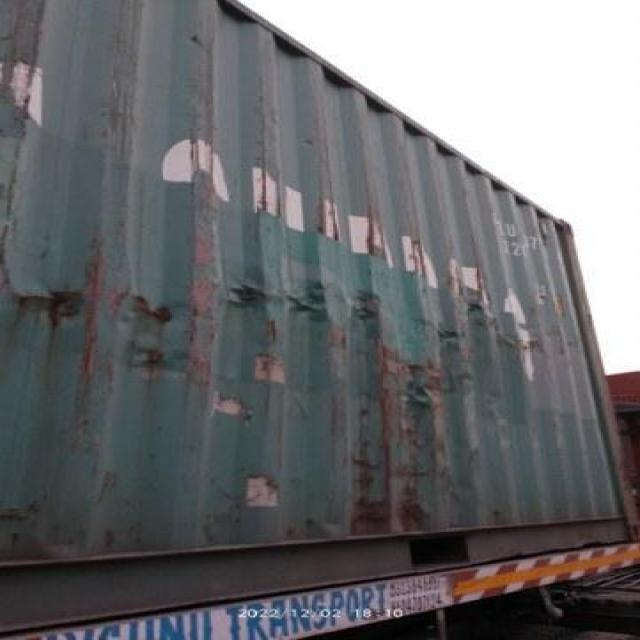Minor-Dent: (134, 271, 199, 354), (330, 295, 390, 350), (30, 276, 85, 330), (233, 282, 298, 302), (438, 317, 472, 355), (423, 367, 428, 426)
Rust: (364, 484, 441, 539)
